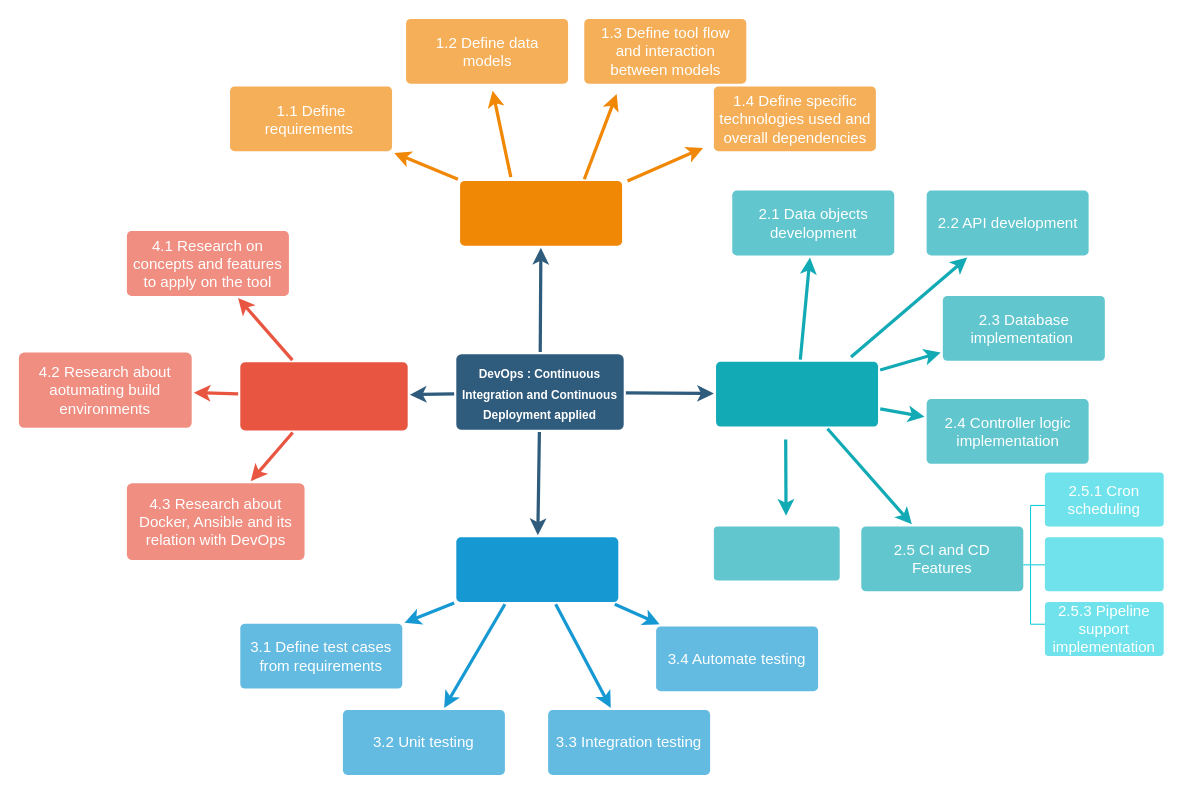
Some shapes in this 1182 by 793 pixel diagram are drawn without their labels. Here are the shapes that lost their labels. From the top down, the centre of each, then its label:
point (541, 212): 1. Tool Design (Major Constituent)
point (323, 396): 4. Knowledge development and research (Major Constituent)
point (797, 393): 2. Tool Implementation (Major Constituent)
point (537, 569): 3. Tool testing (Major Constituent)
point (776, 553): 2.6 Implement client
point (1103, 564): 2.5.2 Archiving artifacts
